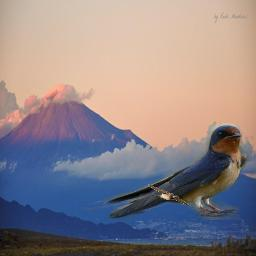Swallow: (81, 123, 250, 220), (146, 183, 191, 206)
